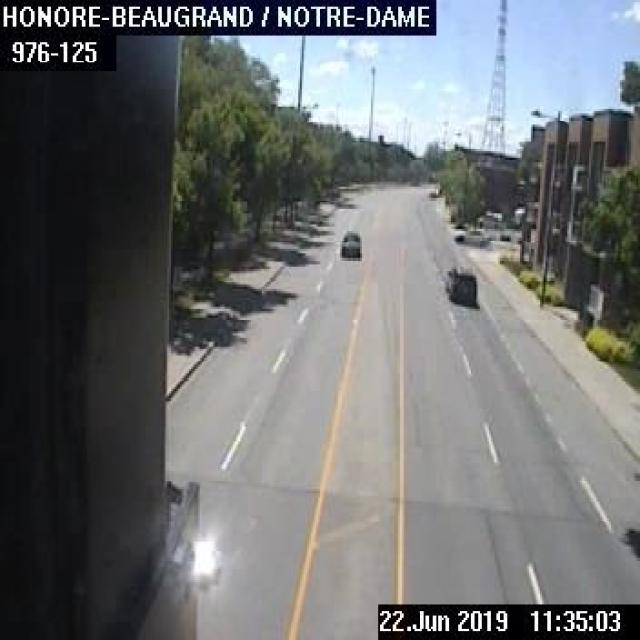vehicle: (444, 264, 476, 304), (338, 231, 360, 258), (453, 227, 487, 244), (0, 71, 4, 167), (476, 210, 500, 226)
